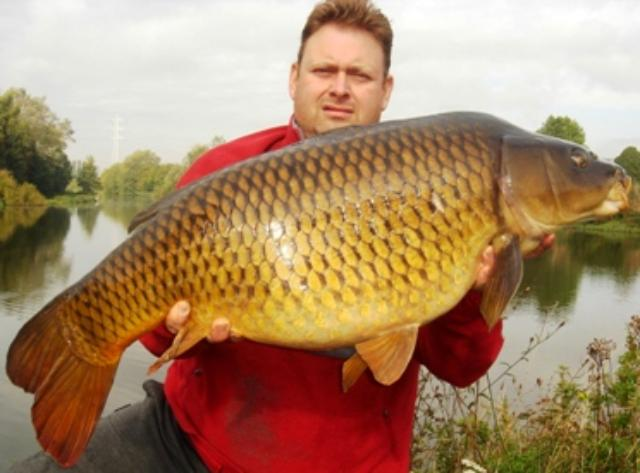Mulut: (598, 148, 640, 230)
Sirip Anal: (139, 309, 241, 387)
Sirip Dada: (472, 227, 530, 344)
Sirip Ekor: (3, 301, 123, 471)
Sirip Perut: (332, 322, 438, 392)
